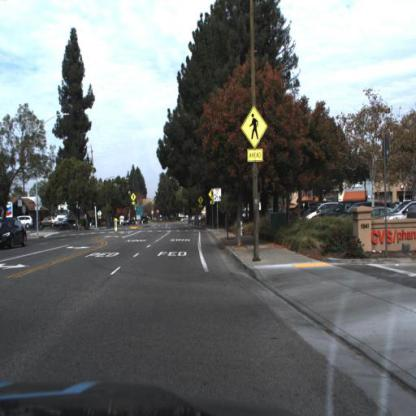car: (1, 215, 30, 252), (303, 200, 344, 225), (362, 200, 387, 224), (20, 210, 37, 229), (36, 215, 55, 231)
truck: (51, 200, 70, 230)
